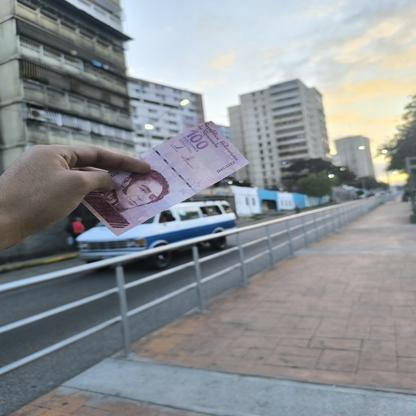vef_front: (79, 120, 250, 238)
